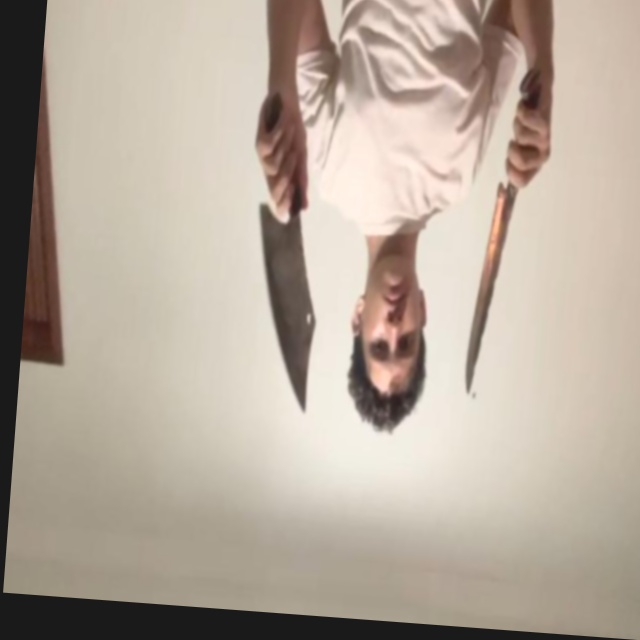Sharp-Object: (245, 203, 327, 412), (464, 182, 517, 398)
